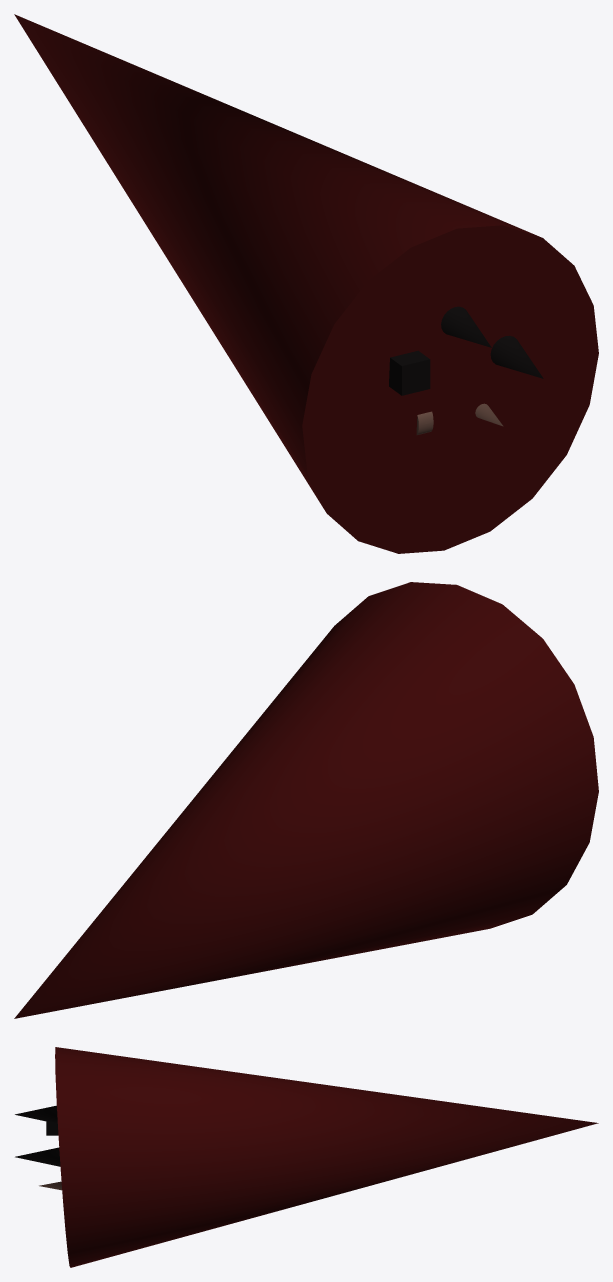
File: e_right_arm2.obj
3 views of the same model, one above another, from view 1: azimuth 30°, elevation 25°; view 2: azimuth 150°, elevation 25°; view 3: azimuth 270°, elevation 25° (orthographic). The views are drawn at different scales.
Parts seen in each view (by area): view 1: polySurface15 e_right_arm2, e_right_arm2 polySurface14, e_right_arm2 polySurface17, e_right_arm2 polySurface18; view 2: polySurface15 e_right_arm2; view 3: polySurface15 e_right_arm2, e_right_arm2 polySurface17, e_right_arm2 polySurface18.
Part boxes in pixels (bbox=[...]): polySurface15 e_right_arm2: bbox=[14, 14, 598, 553]; e_right_arm2 polySurface14: bbox=[389, 350, 430, 395]; e_right_arm2 polySurface17: bbox=[490, 335, 543, 378]; e_right_arm2 polySurface18: bbox=[441, 306, 491, 347]; polySurface15 e_right_arm2: bbox=[14, 582, 598, 1018]; polySurface15 e_right_arm2: bbox=[55, 1047, 598, 1267]; e_right_arm2 polySurface17: bbox=[15, 1147, 60, 1166]; e_right_arm2 polySurface18: bbox=[15, 1105, 57, 1123].
Bounding box in the file's own units: 0.5796 × 0.6188 × 1.61.
